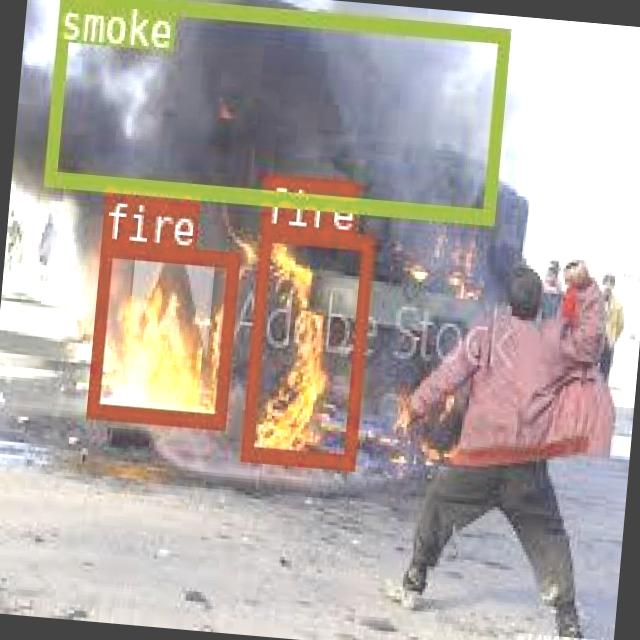fire: (238, 224, 372, 466), (86, 240, 237, 425)
smoke: (42, 0, 507, 221)
